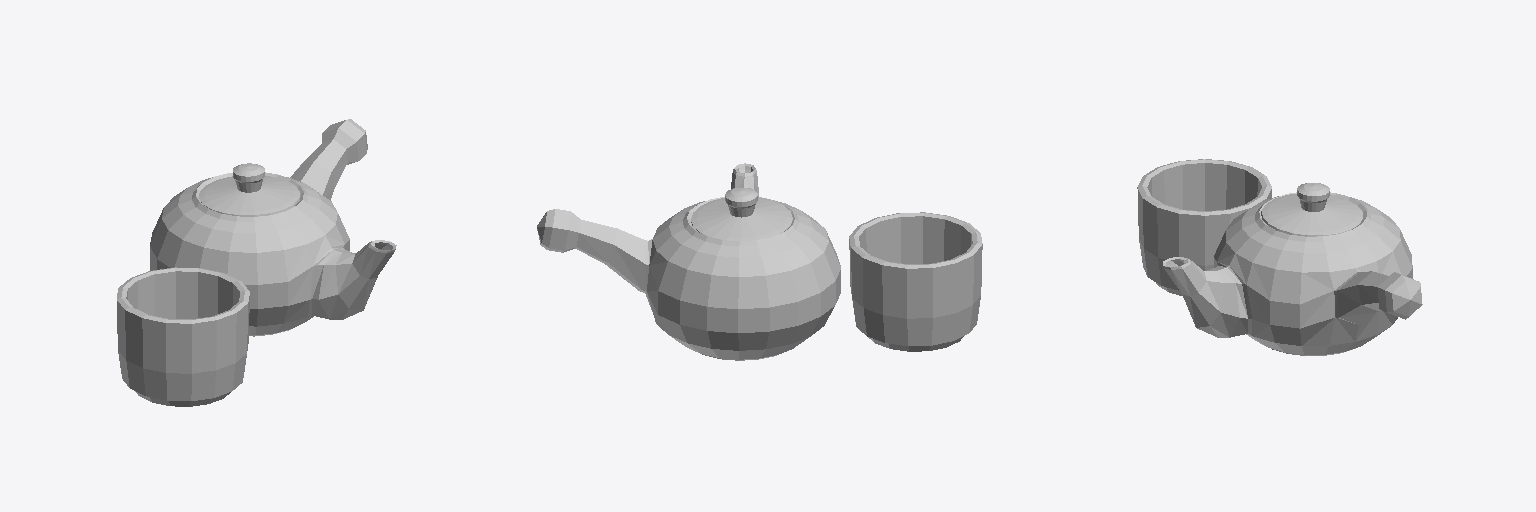
The model's file is TeapotAndCup.obj.
3 views of the same model, side by side, from view 1: azimuth 30°, elevation 25°; view 2: azimuth 150°, elevation 25°; view 3: azimuth 270°, elevation 25° (orthographic).
Parts seen in each view (by area): view 1: polySurface1; view 2: polySurface1; view 3: polySurface1.
Part boxes in pixels (x1,y1,x2,y2): polySurface1: (117, 119, 396, 406); polySurface1: (537, 163, 982, 360); polySurface1: (1137, 159, 1422, 355).
Bounding box in the file's own units: 6.31 × 2.69 × 4.62.